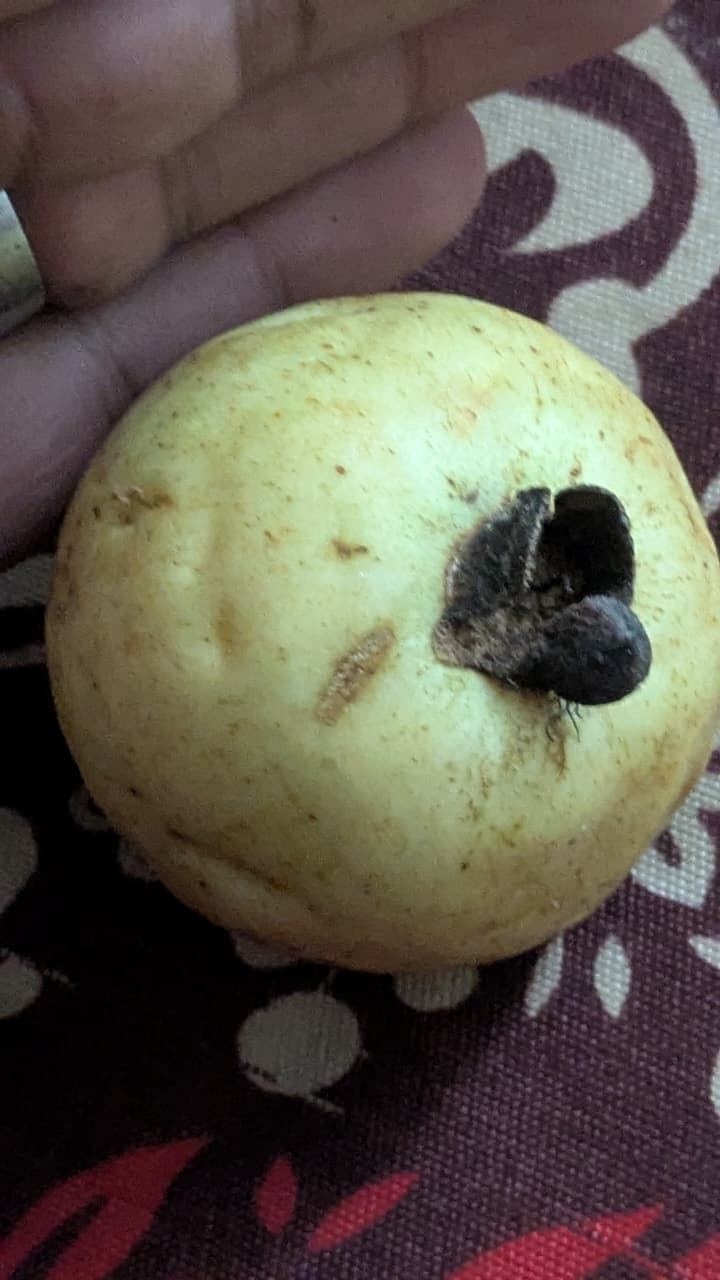guava: (53, 170, 535, 1134)
